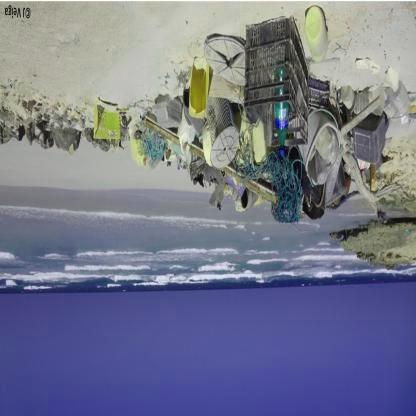Plastic: (206, 98, 241, 168), (269, 66, 290, 158), (303, 4, 328, 62)
Trash: (348, 115, 384, 165), (186, 58, 210, 119), (91, 105, 122, 142)
